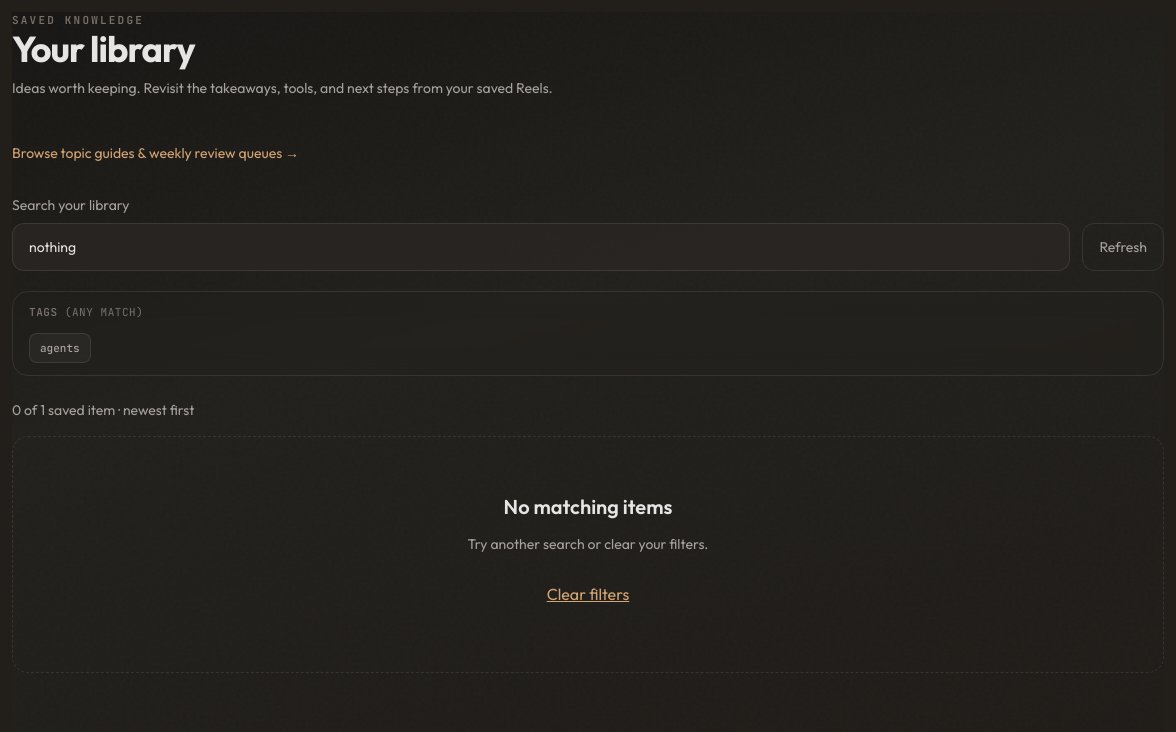
Scenario: Knowledge library › shows an empty state and lets users clear unmatched filters
The image size is (1176, 732).
Expected: the heading "No matching items" is shown, [504,494,672,519]
Click the button "Clear filters": (588, 594) [547,572,629,616]
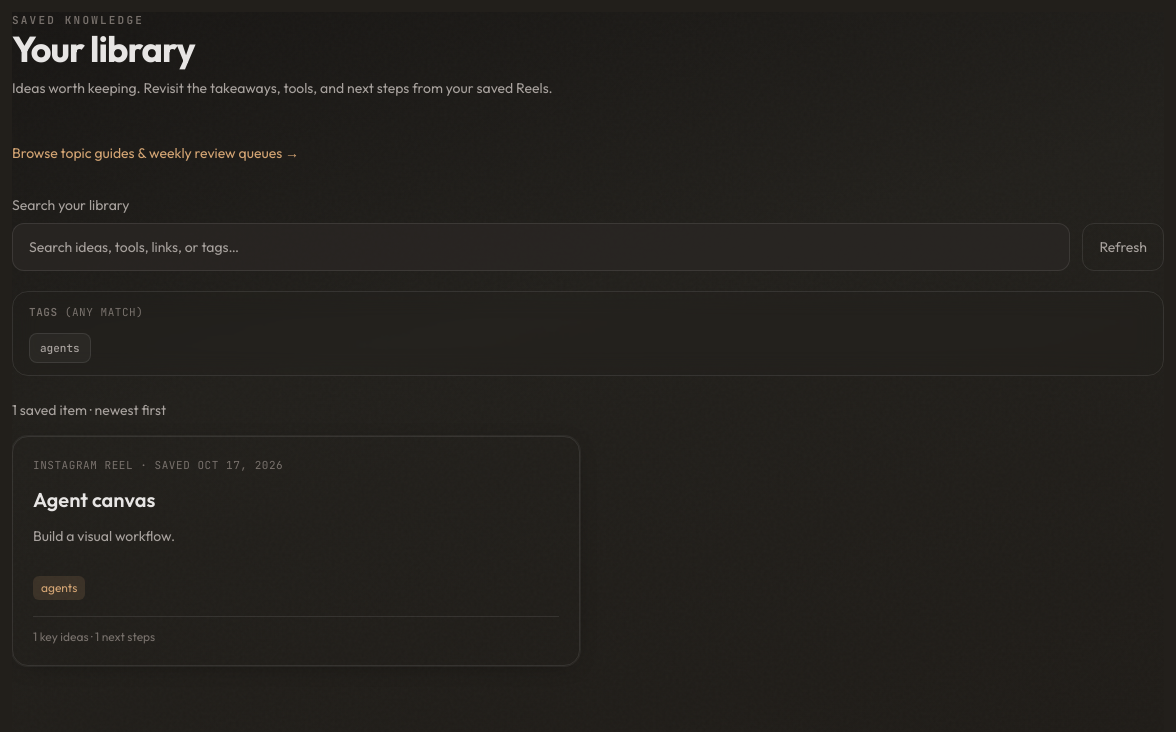
Now the link "Agent canvas" is shown, box [33,487,155,512]
